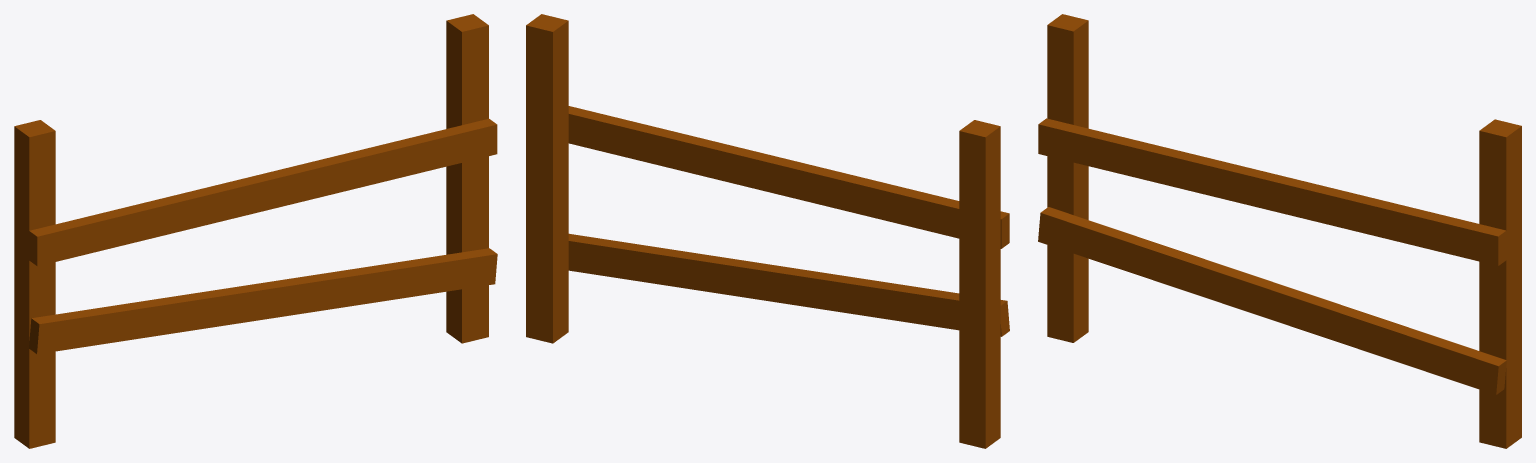
Rendered from baricate1.glb.
3 views of the same model, side by side, from view 1: azimuth 30°, elevation 25°; view 2: azimuth 150°, elevation 25°; view 3: azimuth 330°, elevation 25° (orthographic).
Visible parts, largest first — view 1: Cube.009; view 2: Cube.009; view 3: Cube.009.
Part boxes in pixels (x1=…): Cube.009: x1=14, y1=14, x2=497, y2=448; Cube.009: x1=526, y1=14, x2=1009, y2=448; Cube.009: x1=1038, y1=14, x2=1521, y2=448.
Bounding box in the file's own units: 1.55 × 1 × 0.1388.
